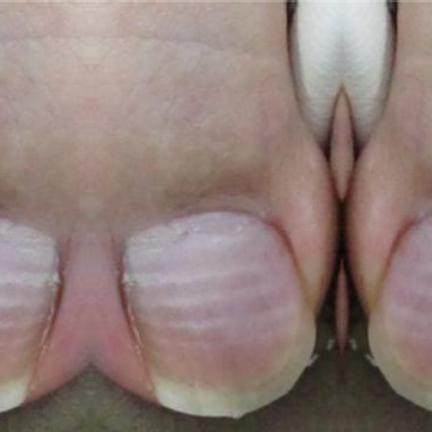Nail: (120, 210, 315, 417), (368, 213, 432, 413), (0, 220, 60, 412)
